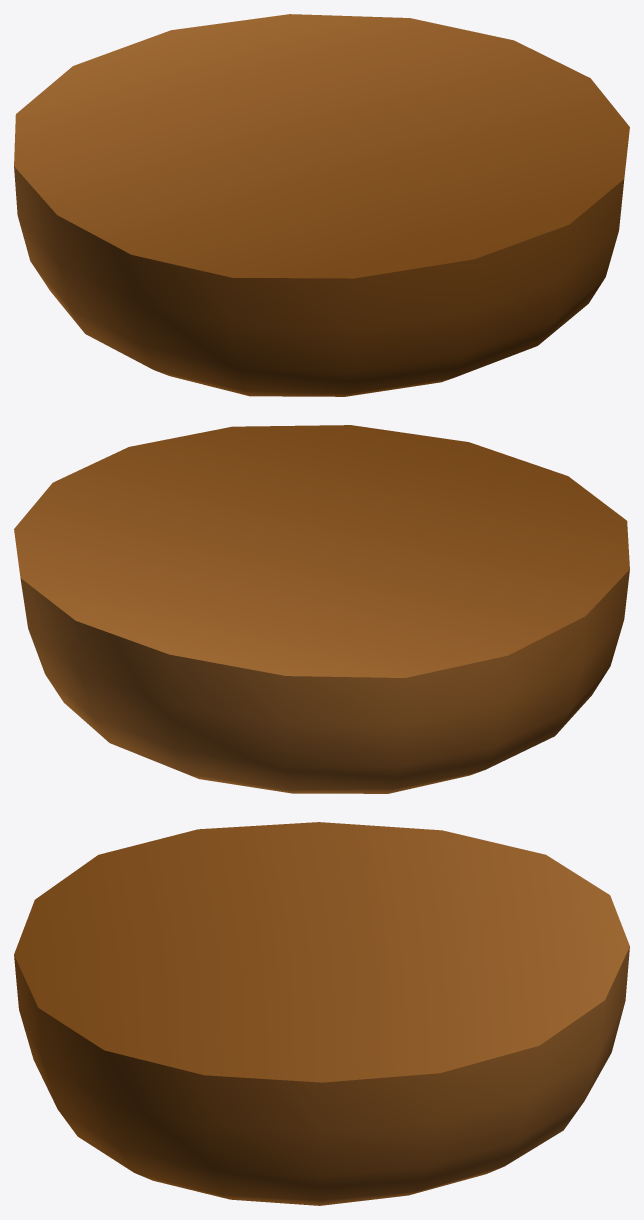
File: Bread_2 Small Half_2.fbx
3 views of the same model, one above another, from view 1: azimuth 30°, elevation 25°; view 2: azimuth 150°, elevation 25°; view 3: azimuth 270°, elevation 25° (orthographic). The views are drawn at different scales.
Visible parts, largest first — view 1: Bread_2 Small Half_2; view 2: Bread_2 Small Half_2; view 3: Bread_2 Small Half_2.
Boxes of the visible parts, x1,y1,x2,y2 form: Bread_2 Small Half_2: (14,14,629,396); Bread_2 Small Half_2: (14,425,629,793); Bread_2 Small Half_2: (14,822,629,1205).
Size of the model in its own units: 0.1149 by 0.0315 by 0.1125.
